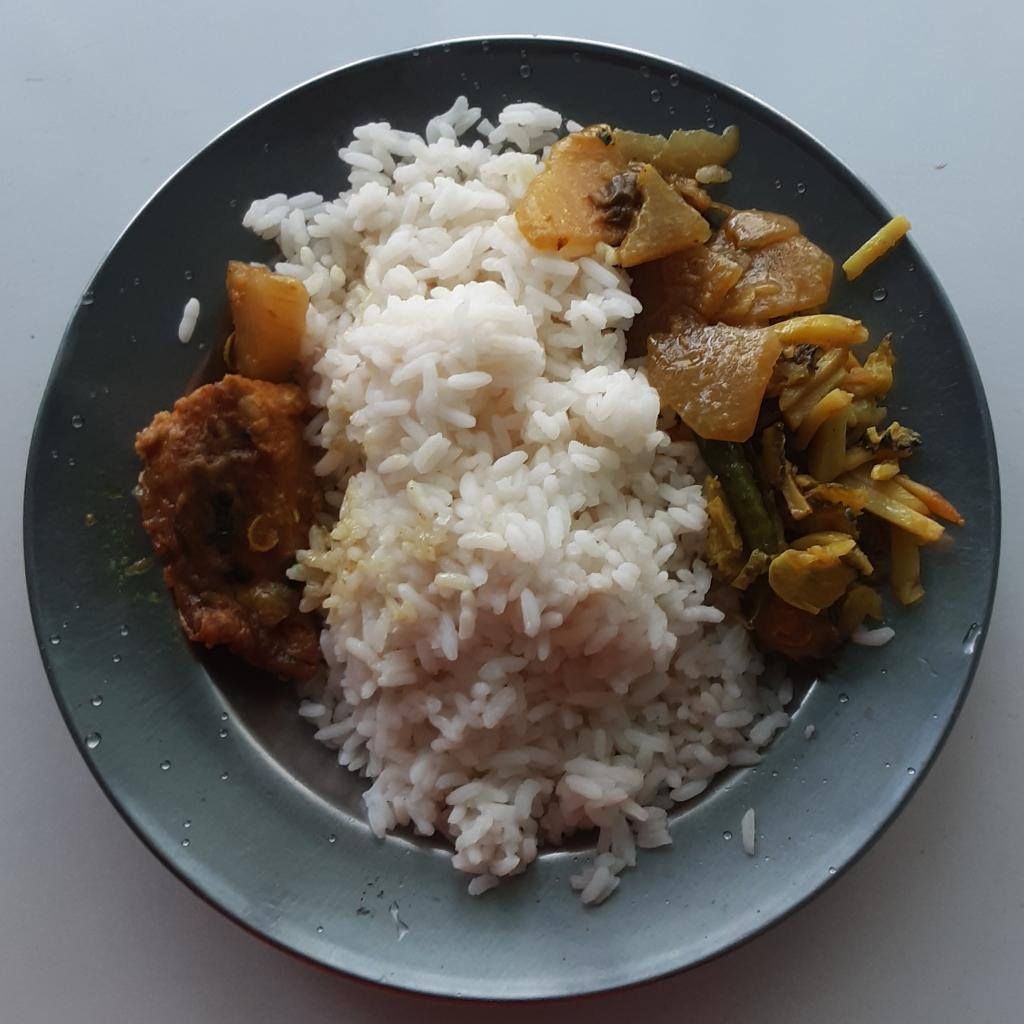dundol: (230, 260, 306, 388)
fish: (138, 382, 320, 683)
papaya: (529, 113, 834, 439)
potato: (703, 306, 965, 663)
rice: (240, 87, 788, 913)
